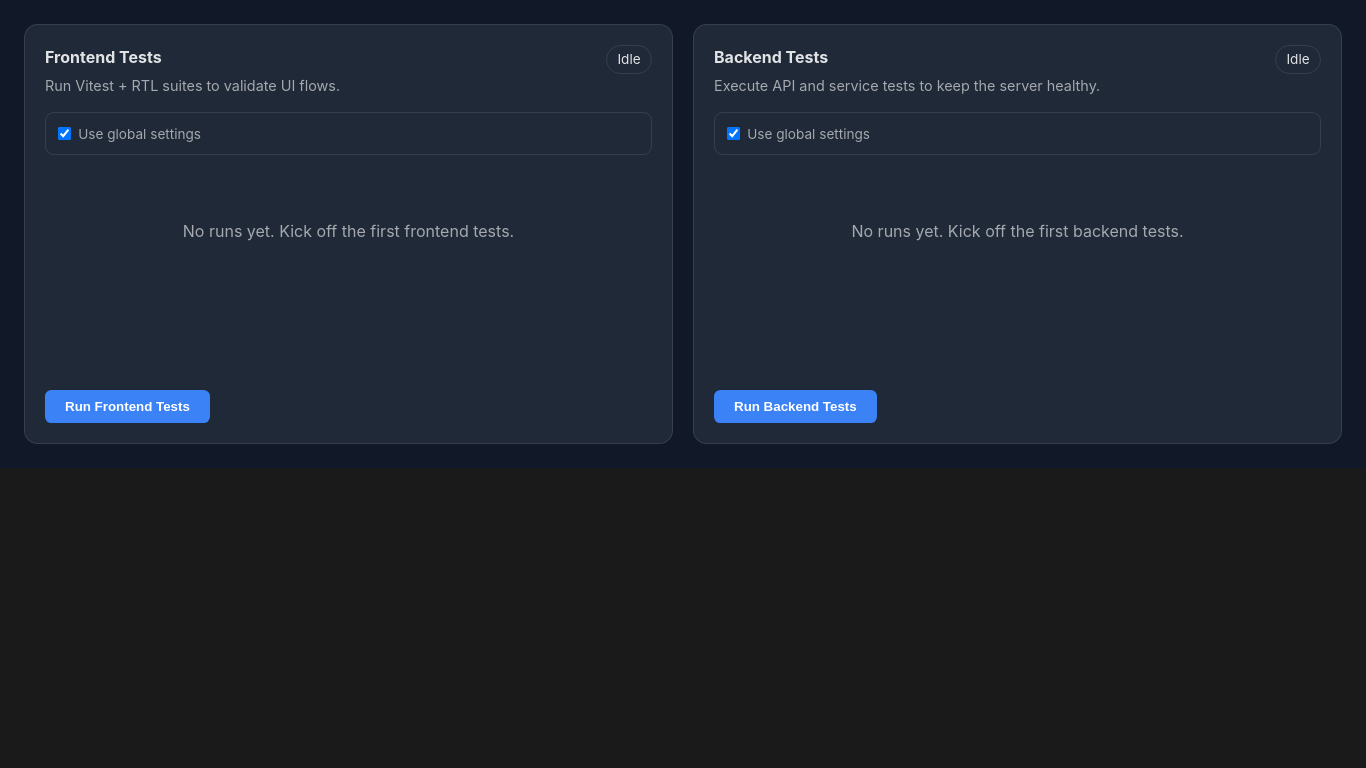
Test: TestTab › scope setting save fallback error message is shown when rejection has no message
Click the checkbox with test id "scope-use-global-frontend" at (64, 134), box [58,127,71,140]
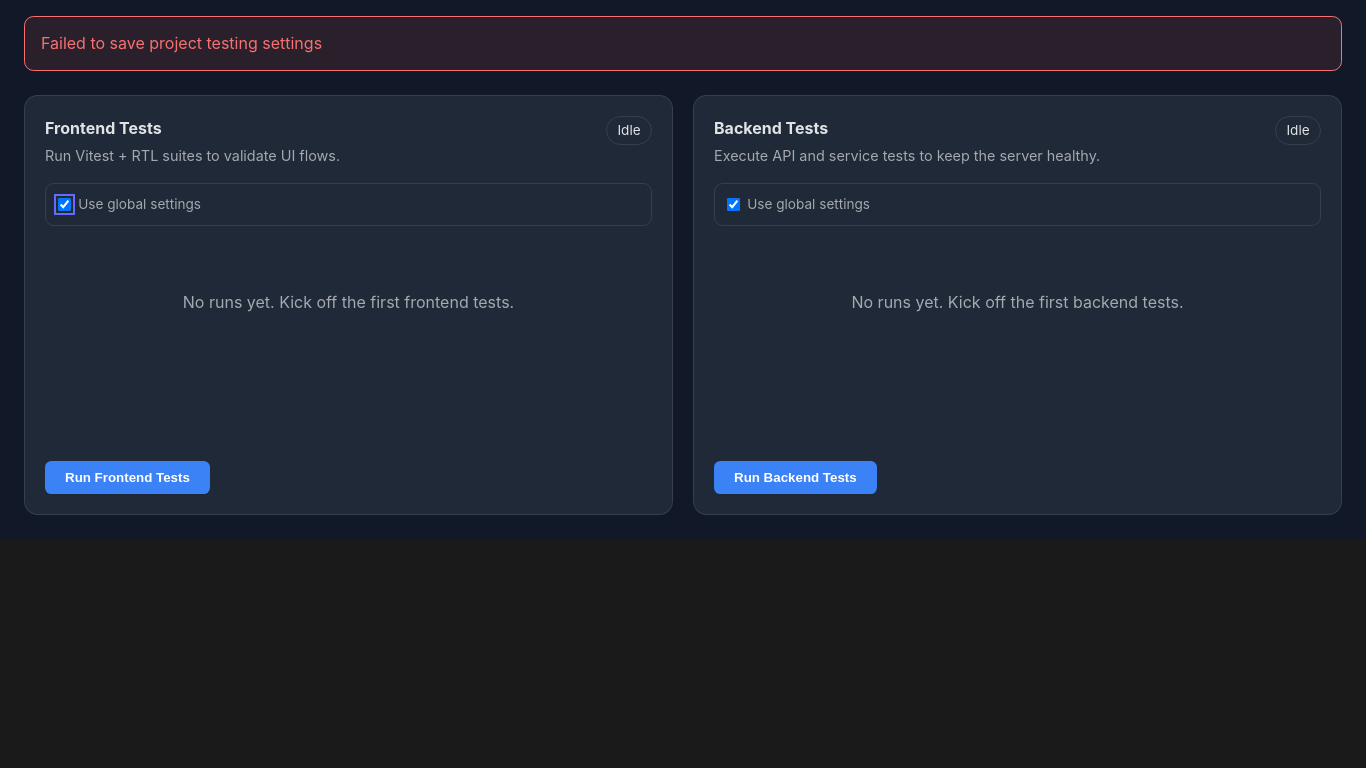
expect the message with test id "test-error-banner" reads "Failed to save project testing settings": met, box [41,33,322,53]
